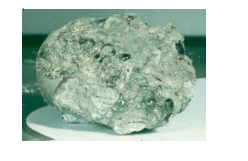Breccia: (26, 13, 202, 132), (86, 19, 188, 121)
